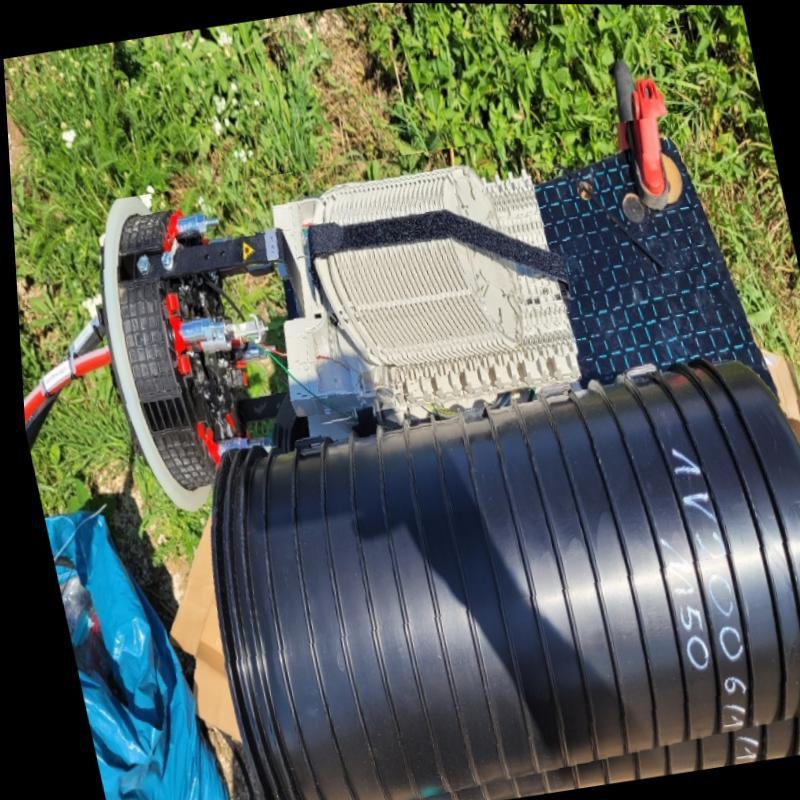NT-Muffen: (100, 175, 800, 800)
